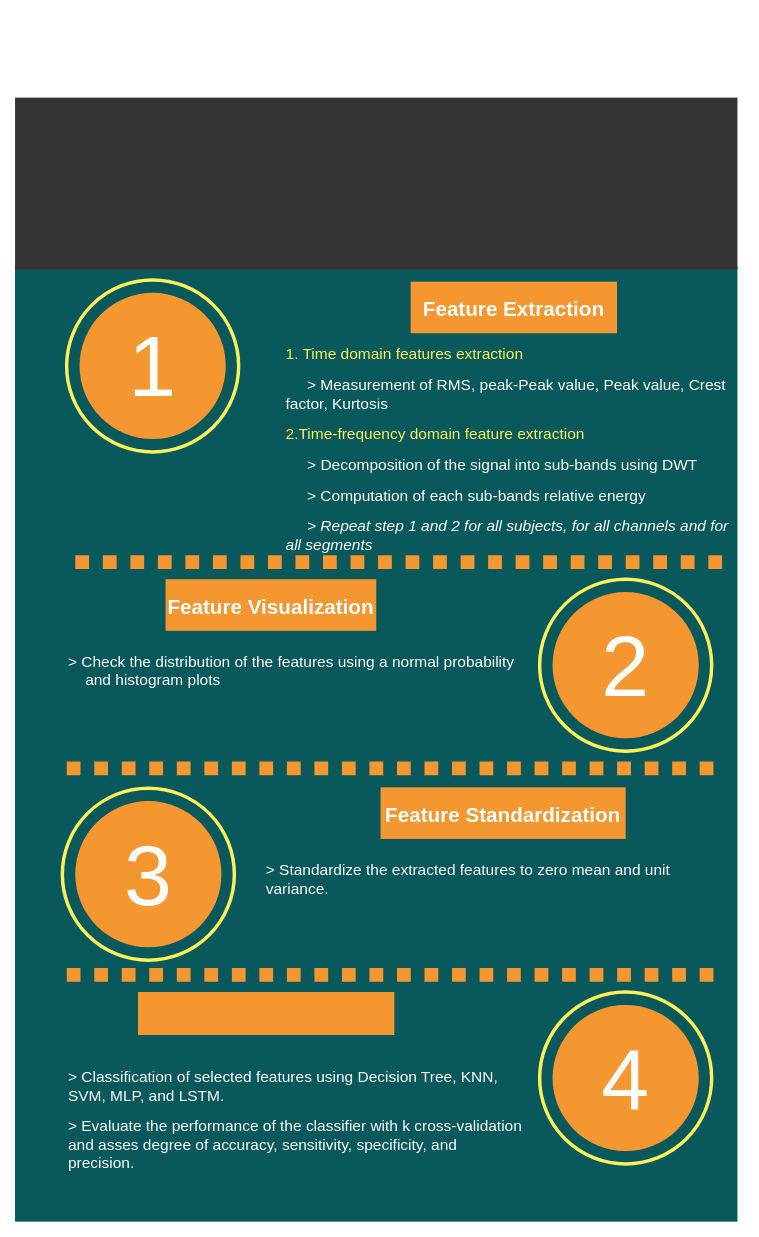
Some shapes in this 759 by 1237 pixel diagram are drawn without their labels. The shapes that lost their labels are listed below. From the top down, each one's box as (x1, y1, x2, y2) in pixels, then its label:
(15, 97, 737, 269): Pattern Recognition Scheme
(138, 992, 394, 1035): Feature Classification
